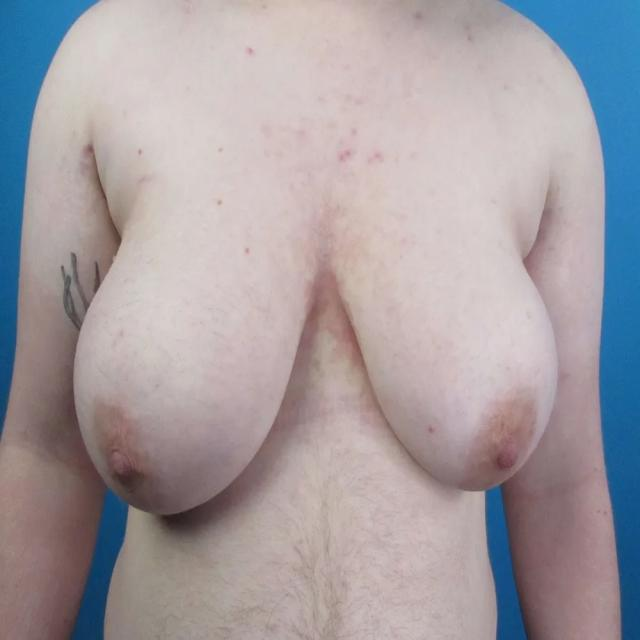Seno ileso: (67, 194, 319, 542), (324, 192, 564, 518)
